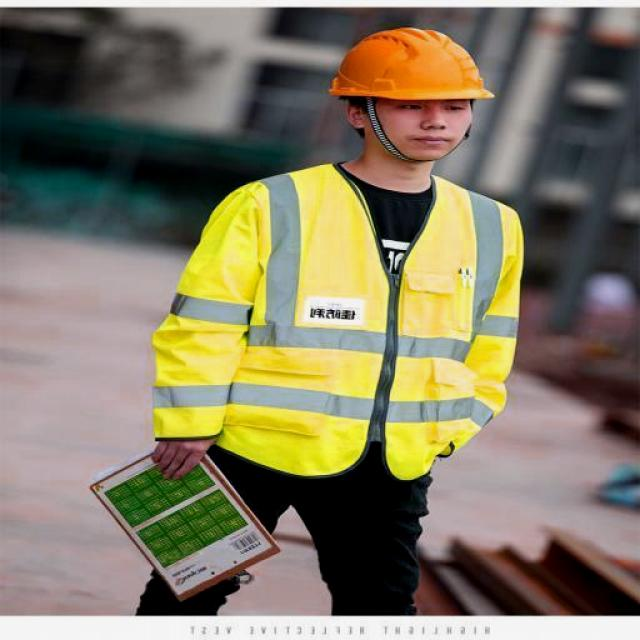face_nomask: (384, 85, 470, 159)
hand_noglove: (148, 422, 210, 486)
head_helmet: (324, 31, 504, 107)
person: (132, 15, 528, 613)
vest: (148, 168, 508, 492)
